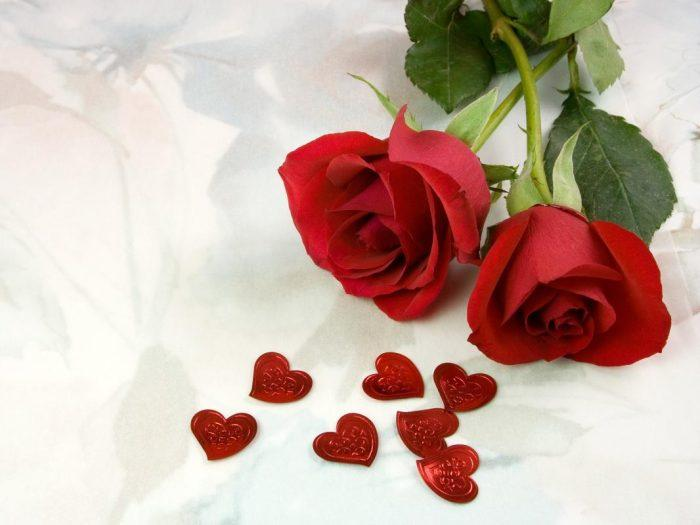Rose: (259, 109, 492, 328), (475, 192, 678, 387)
